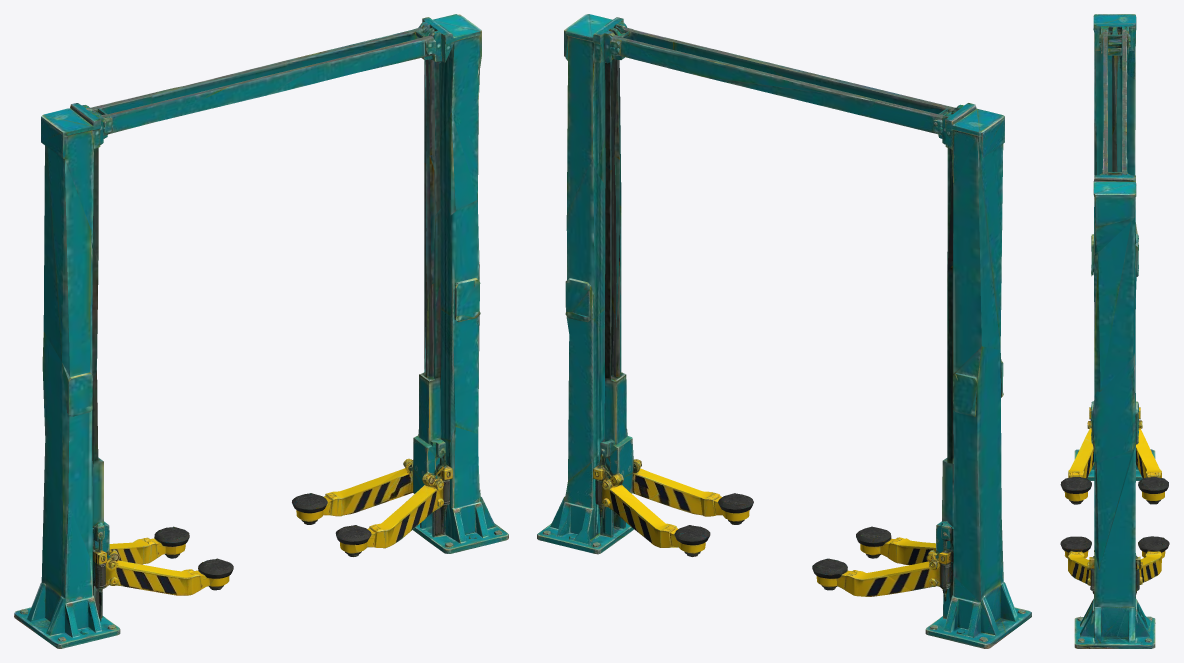
File: lift.glb
3 views of the same model, side by side, from view 1: azimuth 30°, elevation 25°; view 2: azimuth 150°, elevation 25°; view 3: azimuth 270°, elevation 25° (orthographic). The views are drawn at different scales.
Size of the model in its own units: 1.77 by 1.9 by 0.4172.
Materials: 1 (1 with a texture image).
